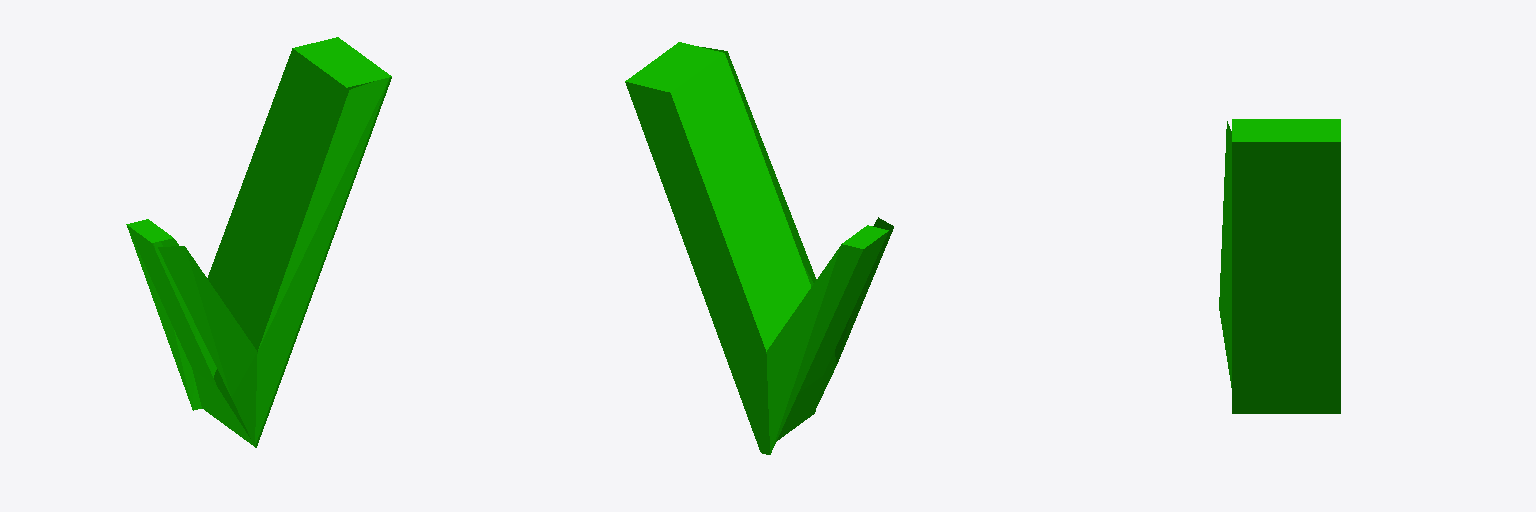
The model's file is Acerto.obj.
The picture shows the model from 3 angles: view 1: azimuth 30°, elevation 25°; view 2: azimuth 150°, elevation 25°; view 3: azimuth 270°, elevation 25°; orthographic projection.
Bounding box in the file's own units: 1.01 × 1.45 × 0.4728.